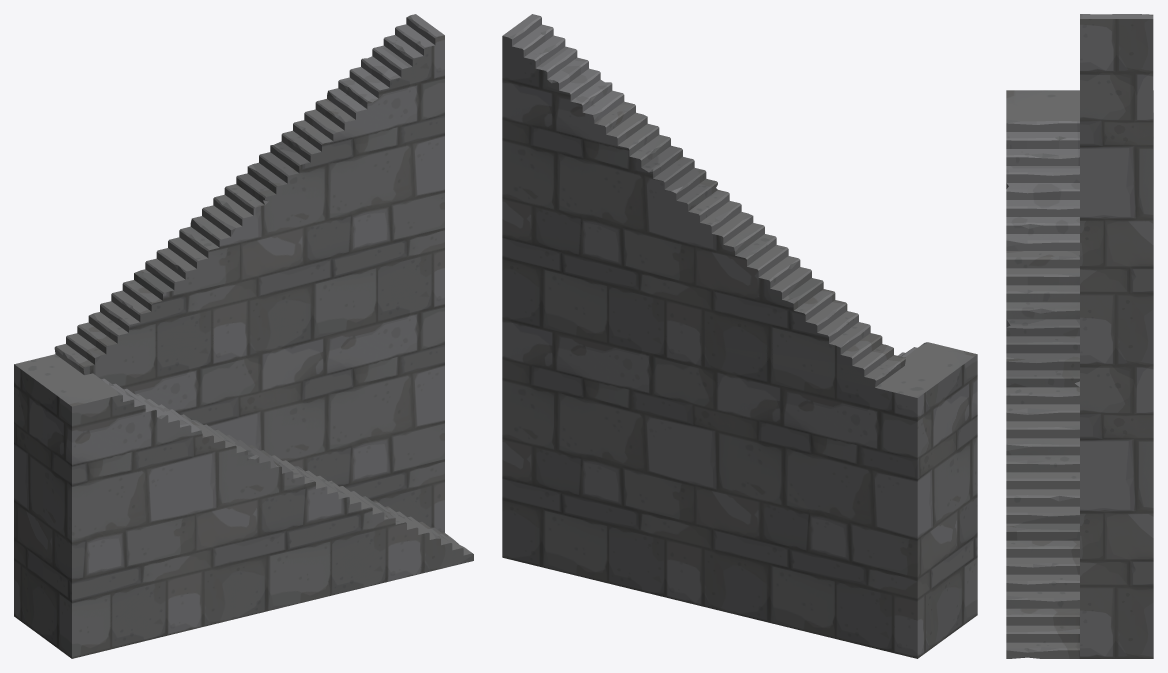
Rendered from SM_Bld_Stairs_L_04.fbx.
The picture shows the model from 3 angles, left to right: view 1: azimuth 30°, elevation 25°; view 2: azimuth 150°, elevation 25°; view 3: azimuth 270°, elevation 25°; orthographic projection. The views are drawn at different scales.
Parts seen in each view (by area): view 1: SM_Bld_Stairs_L_04; view 2: SM_Bld_Stairs_L_04; view 3: SM_Bld_Stairs_L_04.
Boxes of the visible parts, left/top/right/bottom form: SM_Bld_Stairs_L_04: left=14, top=14, right=473, bottom=658; SM_Bld_Stairs_L_04: left=502, top=14, right=977, bottom=658; SM_Bld_Stairs_L_04: left=1006, top=14, right=1153, bottom=658.
Size of the model in its own units: 1000 by 1200 by 250.
1 material, 1 textured.
